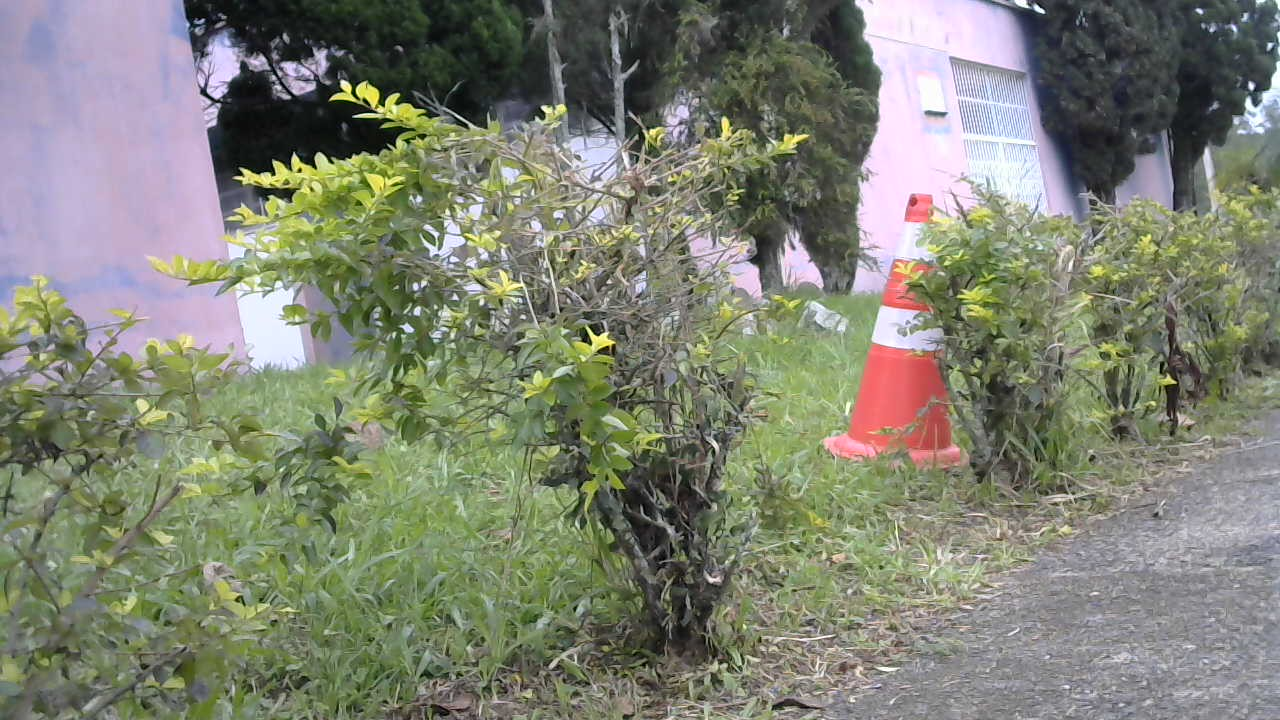cone: (821, 190, 981, 463)
